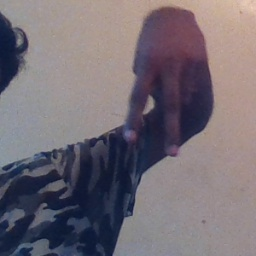Y: (118, 15, 215, 154)
